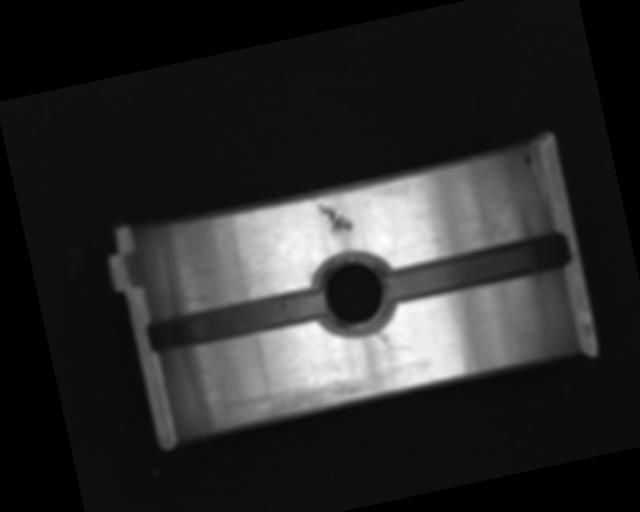blot: (521, 149, 535, 169)
bruise: (314, 197, 356, 241)
gap: (380, 231, 572, 306), (144, 285, 328, 357)
hole: (306, 248, 400, 342)
nick: (374, 327, 394, 353)
scratch: (212, 366, 379, 435)
